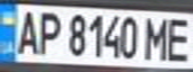0: (118, 12, 142, 60)
1: (84, 11, 106, 57)
4: (103, 11, 124, 58)
8: (63, 10, 87, 56)
A: (9, 7, 42, 56)
E: (163, 14, 193, 62)
M: (142, 14, 172, 62)
P: (33, 8, 63, 56)
